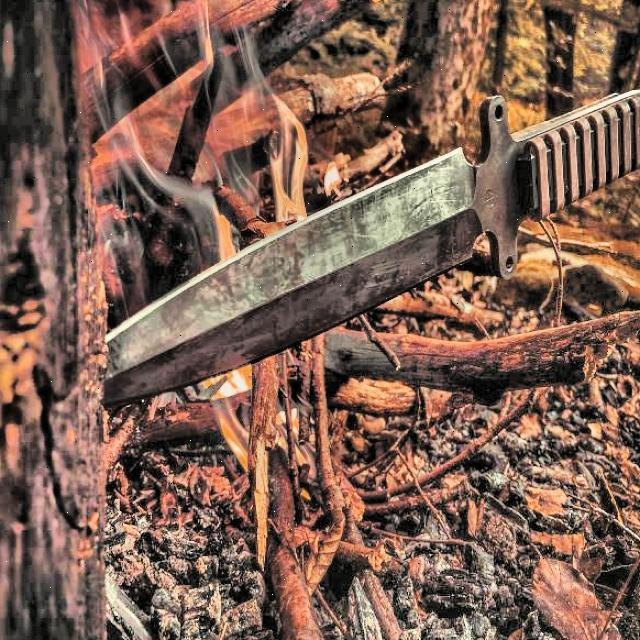knife: (98, 80, 640, 408)
